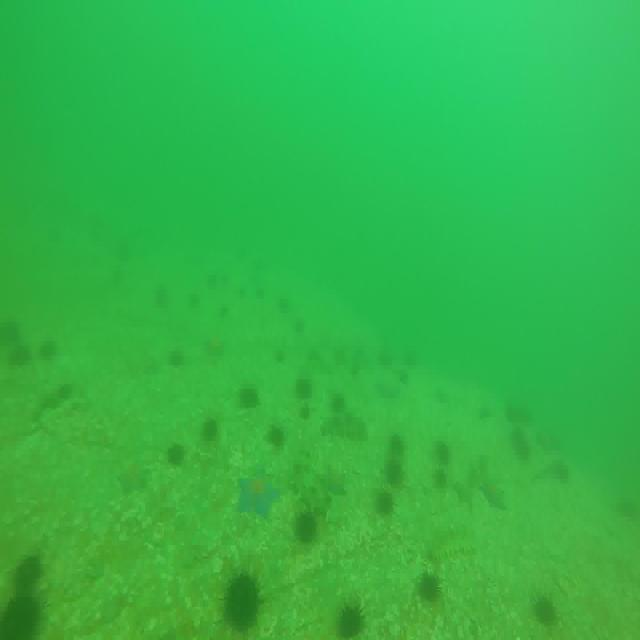echinus: (222, 570, 264, 636), (0, 589, 46, 640), (11, 555, 46, 592), (336, 604, 368, 640), (534, 593, 561, 632), (295, 506, 320, 542), (150, 280, 172, 317), (385, 431, 411, 460), (510, 421, 527, 465), (418, 573, 441, 602), (384, 459, 405, 490), (238, 385, 264, 410), (166, 440, 190, 465), (432, 441, 455, 467), (39, 338, 61, 364), (0, 323, 24, 346), (276, 288, 294, 318), (403, 343, 421, 372), (297, 374, 316, 401), (432, 462, 450, 490), (200, 415, 220, 440), (13, 337, 32, 363), (378, 490, 395, 518), (327, 389, 347, 410), (270, 424, 286, 448), (170, 346, 188, 367), (274, 342, 286, 367)
holothurian: (318, 408, 366, 438)
starfish: (236, 476, 280, 515), (314, 464, 350, 500), (119, 463, 155, 494), (202, 336, 227, 358)
